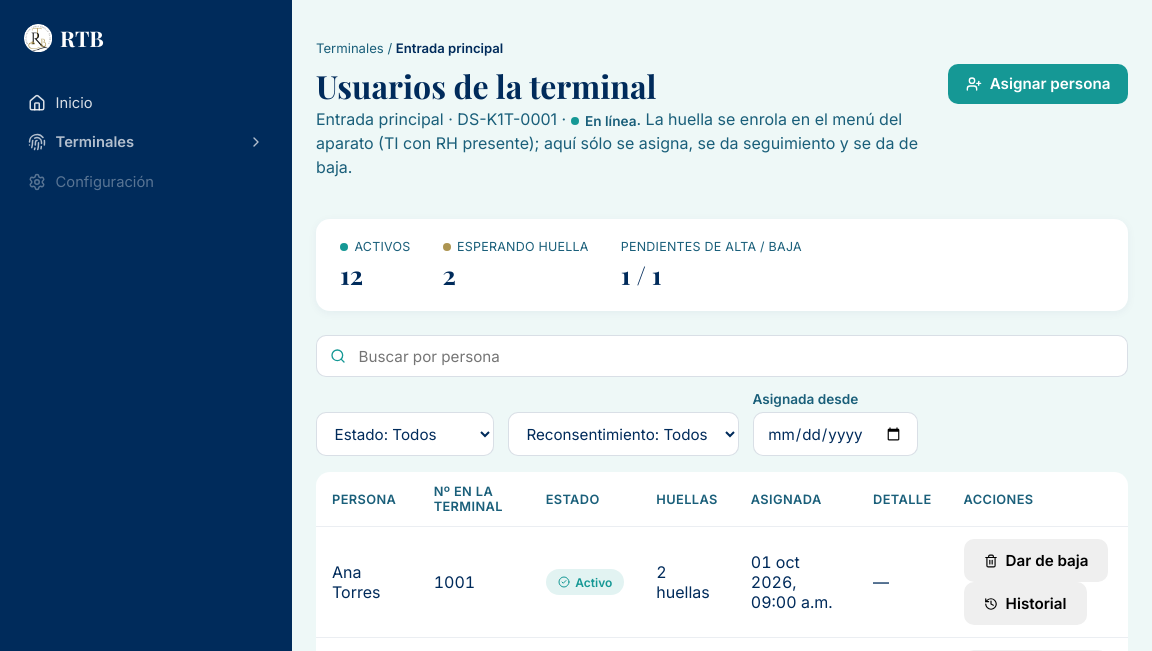
UsuariosTerminalPage › buscar por persona filtra las altas cargadas (sin acentos ni mayúsculas)
Expected: the text "Ana Torres" is shown, [316,527,418,638]
Type "RAMIREZ" into the search field labelled "Buscar por persona".
click(722, 356); type("RAMIREZ")  # box [316,335,1128,377]
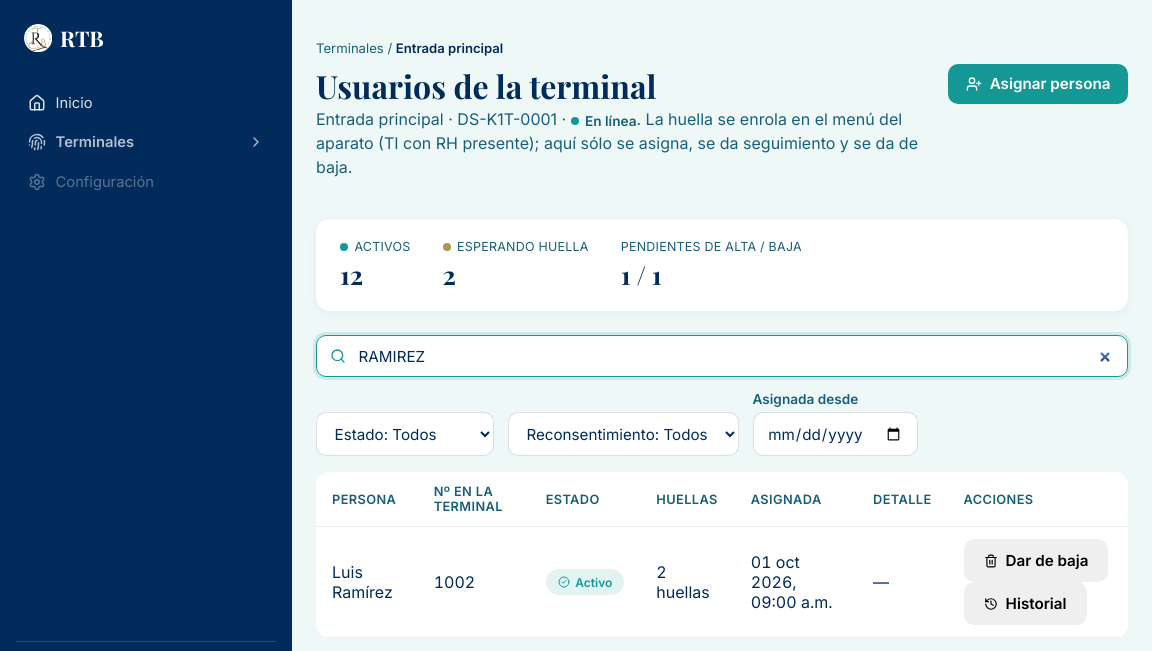
Expected: the text "Luis Ramírez" is shown, [316,527,418,638]
Expected: the text "Ana Torres" is gone
Replace the text in the search field named "Buscar por persona" with "zzz" at x=722, y=356, box [316,335,1128,377]
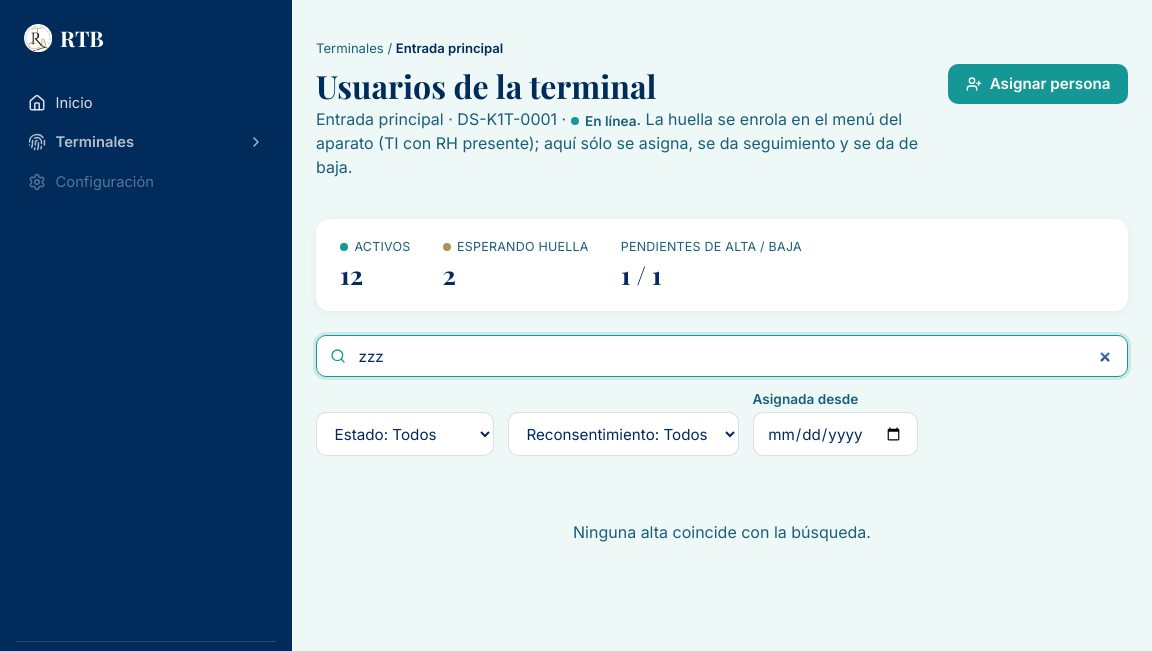
Expected: the text "Ninguna alta coincide con la búsqueda." is shown, [573,520,871,544]
